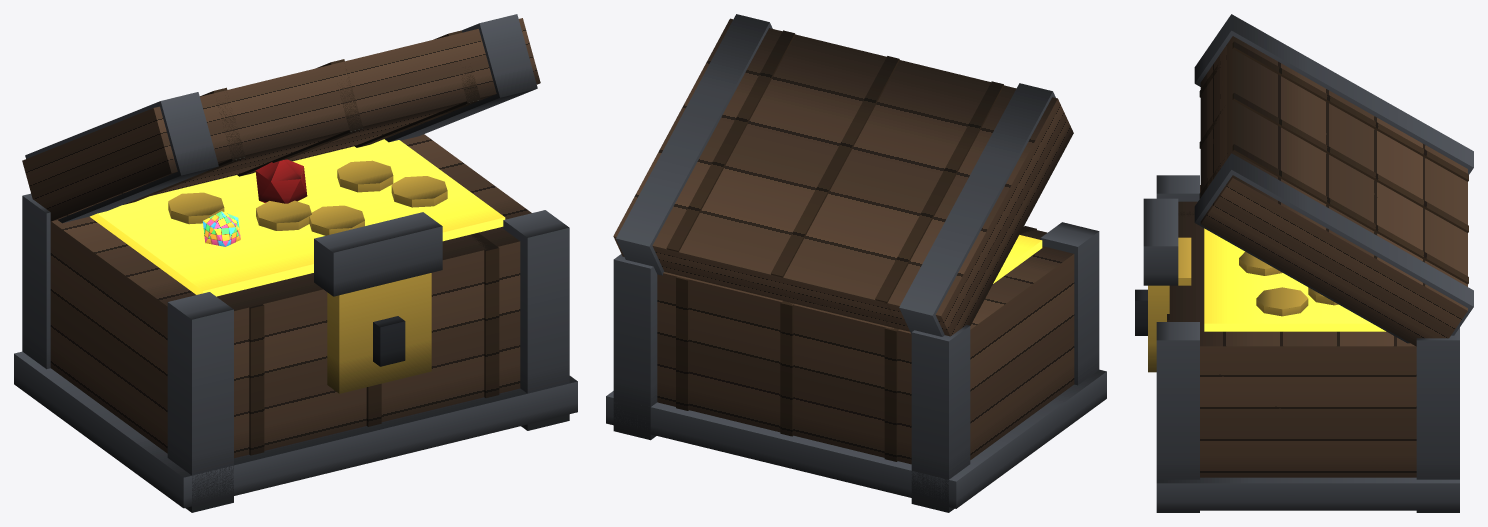
File: chest.gltf
The picture shows the model from 3 angles, left to right: view 1: azimuth 30°, elevation 25°; view 2: azimuth 150°, elevation 25°; view 3: azimuth 270°, elevation 25°; orthographic projection. The views are drawn at different scales.
Visible parts, largest first — view 1: chest; view 2: chest; view 3: chest.
Part boxes in pixels (x1=…): chest: x1=14, y1=14, x2=577, y2=512; chest: x1=606, y1=14, x2=1106, y2=512; chest: x1=1135, y1=14, x2=1473, y2=512.
Bounding box in the file's own units: 0.47 × 0.4314 × 0.3911.
Materials: 1 (1 with a texture image).
